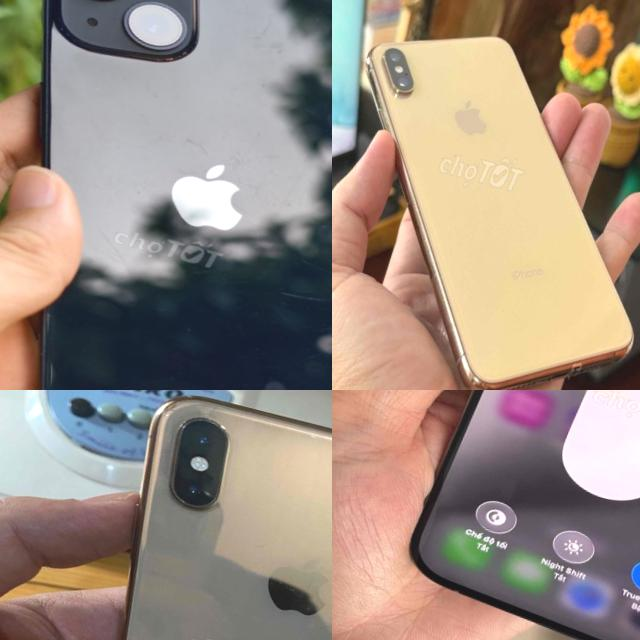gen_12_13: (0, 0, 332, 390)
gen_15: (382, 390, 640, 640)
gen_x_xs: (366, 37, 632, 390), (24, 390, 332, 640)
